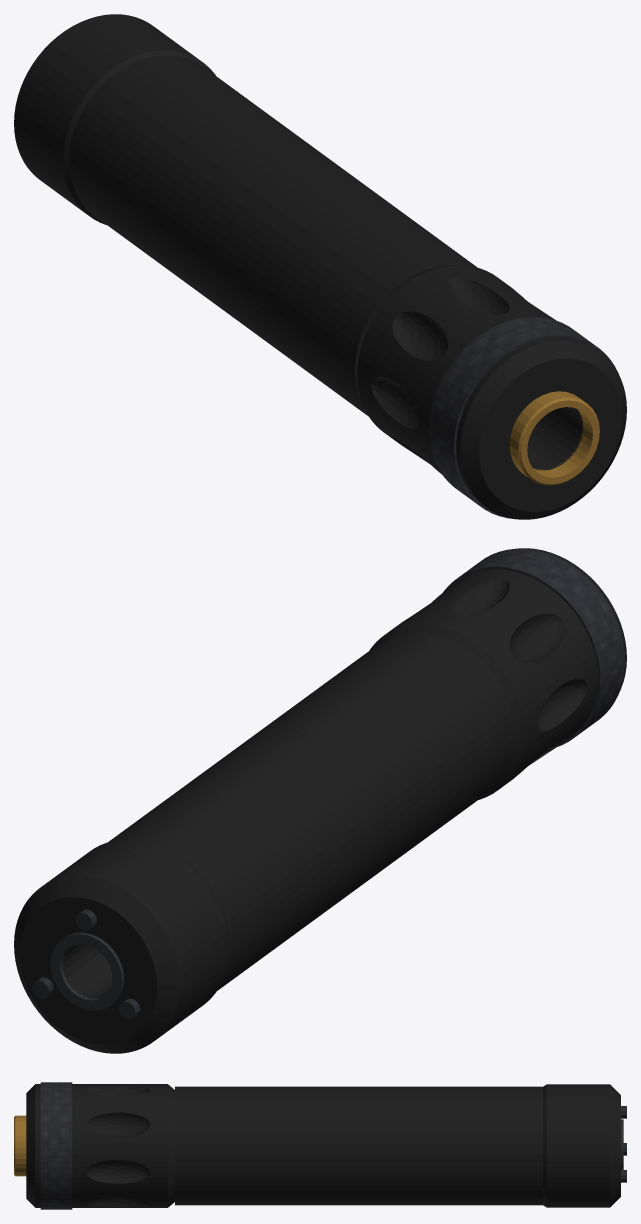
File: supressor_9mm.glb
3 renders of one model, top to bottom at view 1: azimuth 30°, elevation 25°; view 2: azimuth 150°, elevation 25°; view 3: azimuth 270°, elevation 25°, orthographic. The views are drawn at different scales.
Parts seen in each view (by area): view 1: supressor_9mm_aluminio_preto, supressor_9mm_recartilhado, supressor_9mm_latao; view 2: supressor_9mm_aluminio_preto, supressor_9mm_recartilhado, supressor_9mm_aco_cano, supressor_9mm_aco_oxidado; view 3: supressor_9mm_aluminio_preto, supressor_9mm_recartilhado, supressor_9mm_latao, supressor_9mm_aco_oxidado.
Boxes of the visible parts, x1,y1,x2,y2 form: supressor_9mm_aluminio_preto: (14,14,626,519); supressor_9mm_recartilhado: (429,317,618,519); supressor_9mm_latao: (509,391,599,485); supressor_9mm_aluminio_preto: (14,548,626,1053); supressor_9mm_recartilhado: (443,548,625,746); supressor_9mm_aco_cano: (50,932,124,1010); supressor_9mm_aco_oxidado: (32,909,140,1019); supressor_9mm_aluminio_preto: (26,1084,620,1207); supressor_9mm_recartilhado: (40,1082,72,1209); supressor_9mm_latao: (14,1115,26,1176); supressor_9mm_aco_oxidado: (621,1106,626,1182).
Size of the model in its own units: 0.036 by 0.036 by 0.1732.
5 materials, 1 textured.
